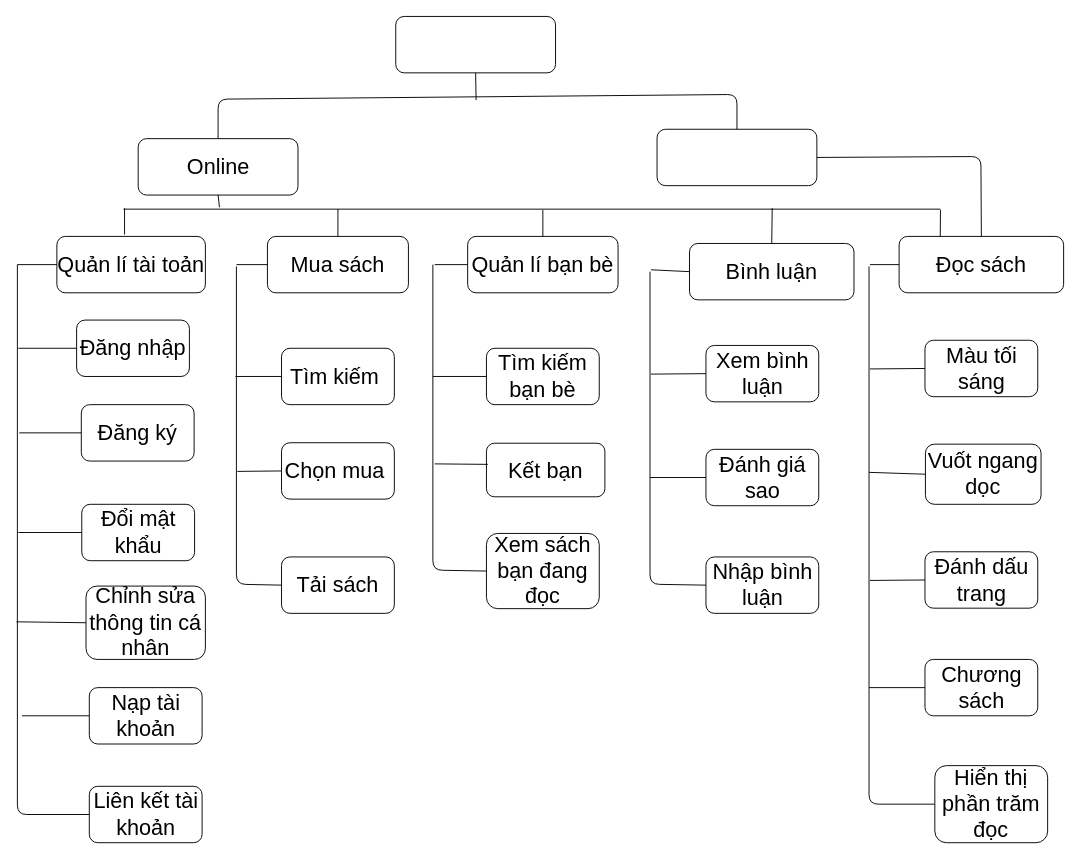
This 1080x859 diagram has some shape labels left out. Each missing label, with the box of its shape:
Offline: (656, 128, 817, 186)
Ứng dụng: (395, 16, 556, 73)
